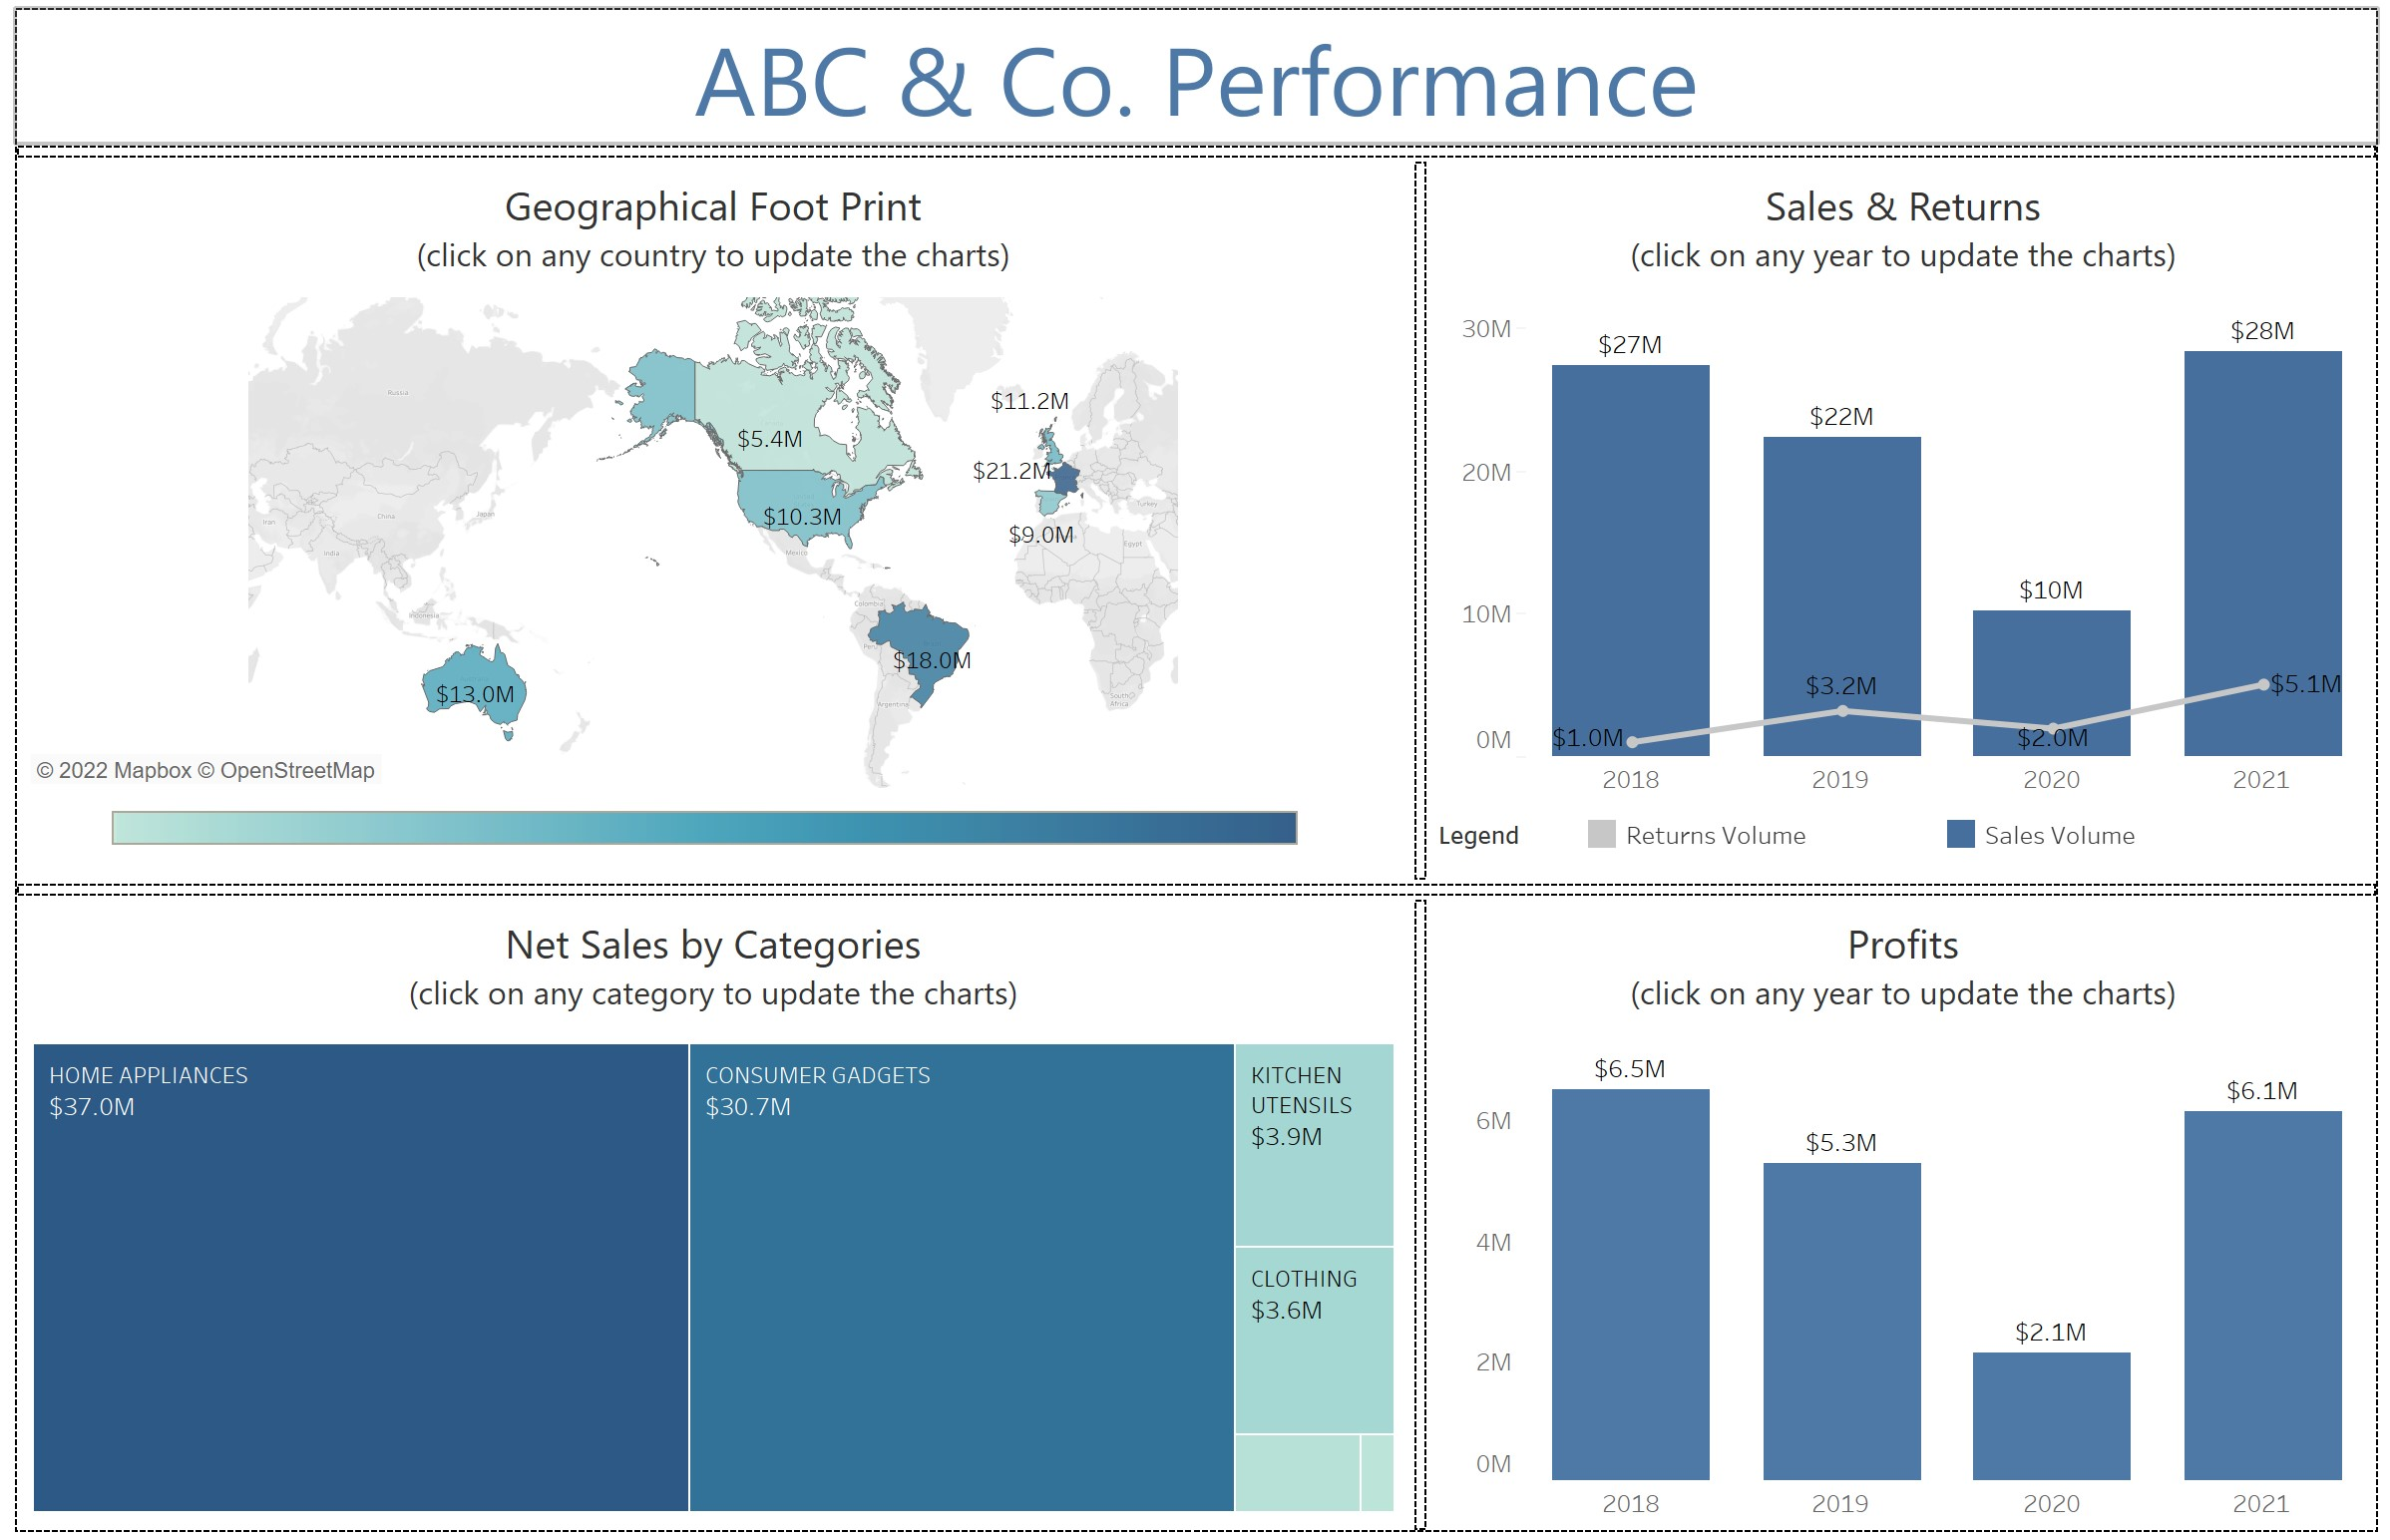

This screenshot's page, from the dashboard's own definition file:
{"tool":"tableau","page":{"name":"Summary","canvas":[1200,780],"ordinal":1},"visuals":[{"type":"text","box":[9,9,1182,66]},{"type":"blank","box":[9,75,1182,10]},{"type":"worksheet","title":"World Map","mark":"Automatic","box":[9,85,698,318]},{"type":"blank","box":[707,85,10,360]},{"type":"worksheet","title":"Dual Axis Charts 3","mark":"Line","rows":["Calculation_1854638624501133313","Sales Volume (copy)_1854638624501370883"],"cols":["Year"],"box":[717,85,474,323]},{"type":"legend","title":"World Map","param":"[federated.0sggb0l05aw1sp13o95kc1jf6l6x].[sum:Calculation_1854638624501133313:qk","box":[9,403,698,42]},{"type":"legend","title":"Dual Axis Charts 3","param":"[federated.0sggb0l05aw1sp13o95kc1jf6l6x].[:Measure Names]","box":[717,408,474,37]},{"type":"blank","box":[9,445,1182,10]},{"type":"worksheet","title":"Tree Map","mark":"Automatic","box":[9,455,698,316]},{"type":"blank","box":[707,455,10,316]},{"type":"worksheet","title":"Bar Charts","mark":"Automatic","rows":["Calculation_1854638624555745297"],"cols":["Year"],"box":[717,455,474,316]}]}

Visuals, with their boxes in screenshot pixels (x1, y1, x2, y2), scaled from the page's 1200x780 canvas onto the 2390x1540 screenshot:
text: bbox=(18, 18, 2372, 148)
blank: bbox=(18, 148, 2372, 168)
"World Map" worksheet: bbox=(18, 168, 1408, 796)
blank: bbox=(1408, 168, 1428, 879)
"Dual Axis Charts 3" worksheet (Line marks): bbox=(1428, 168, 2372, 806)
"World Map" legend: bbox=(18, 796, 1408, 879)
"Dual Axis Charts 3" legend: bbox=(1428, 806, 2372, 879)
blank: bbox=(18, 879, 2372, 899)
"Tree Map" worksheet: bbox=(18, 899, 1408, 1522)
blank: bbox=(1408, 899, 1428, 1522)
"Bar Charts" worksheet: bbox=(1428, 899, 2372, 1522)
